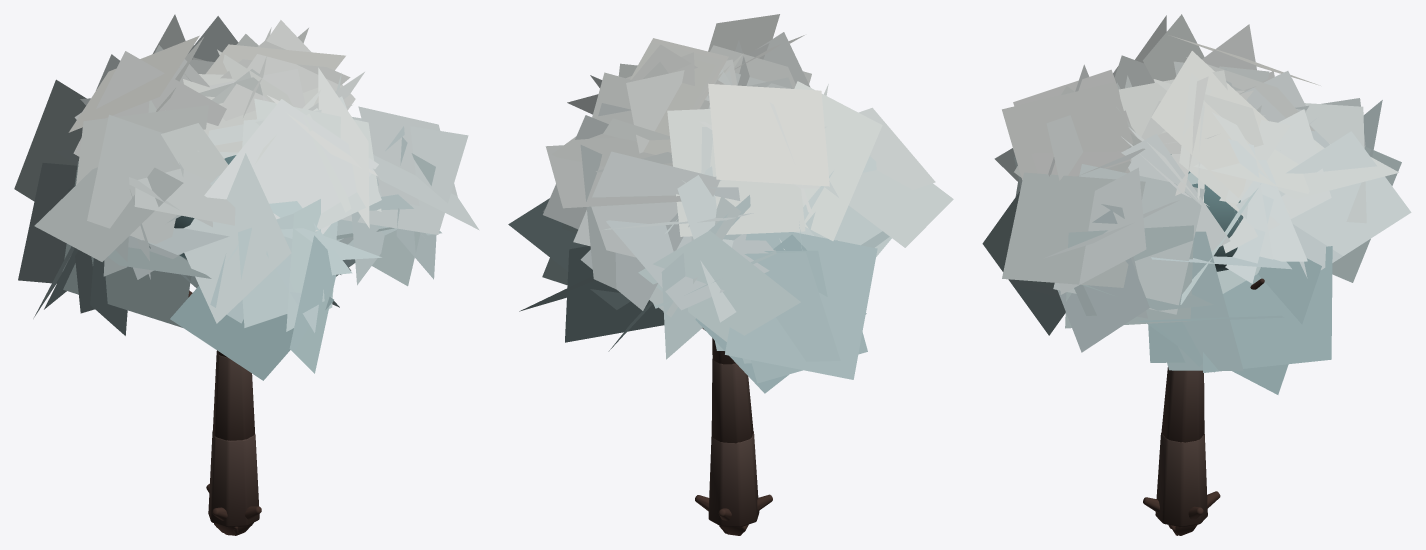
Rendered from tree_blossom.glb.
The picture shows the model from 3 angles, left to right: view 1: azimuth 30°, elevation 25°; view 2: azimuth 150°, elevation 25°; view 3: azimuth 270°, elevation 25°; orthographic projection.
Parts seen in each view (by area): view 1: Leaves, Tree; view 2: Leaves, Tree; view 3: Leaves, Tree.
Boxes of the visible parts, <box> form: Leaves: <box>14,14,479,380</box>; Tree: <box>174,155,261,535</box>; Leaves: <box>508,14,953,393</box>; Tree: <box>695,328,772,535</box>; Leaves: <box>982,14,1411,394</box>; Tree: <box>1143,154,1264,535</box>.
Size of the model in its own units: 3.3 by 4.08 by 3.27.
